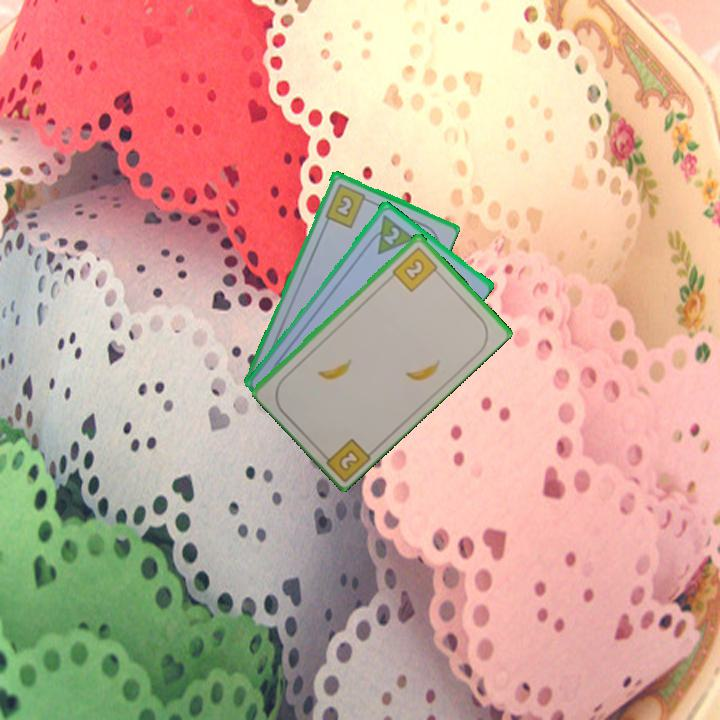2b: (316, 434, 374, 482), (389, 243, 443, 294), (321, 180, 373, 230)
2p: (363, 210, 417, 257)
